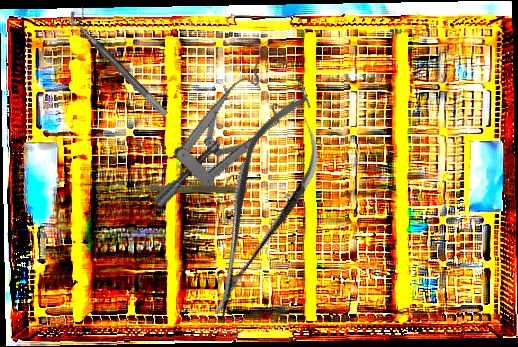Fixation Ring: (65, 3, 177, 119)
Handpiece: (127, 179, 248, 196)
Micro Scissor: (181, 83, 341, 329)
Speculum: (118, 42, 327, 210)
